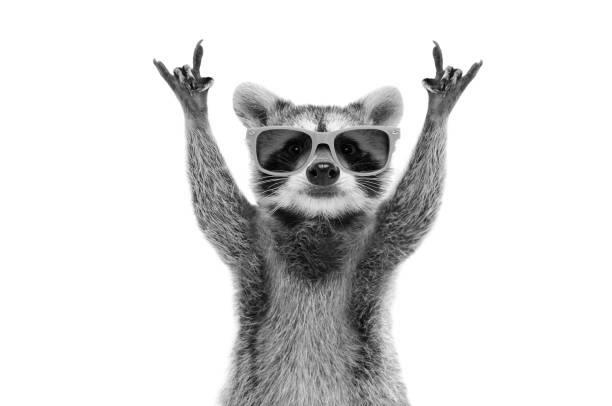Non_Gorille: (127, 10, 532, 406)
